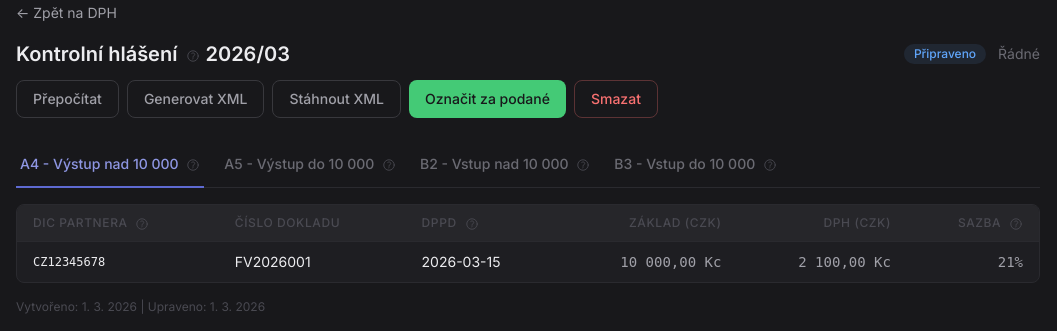
Test case: Control Statement Detail › switches to B2 tab showing input lines
expect the button "A4 - Výstup nad 10 000" is shown: met, box top-left (16, 142), bottom-right (204, 188)
Click the button "B2 - Vstup nad 10 000": (505, 165) top-left (416, 142), bottom-right (594, 188)
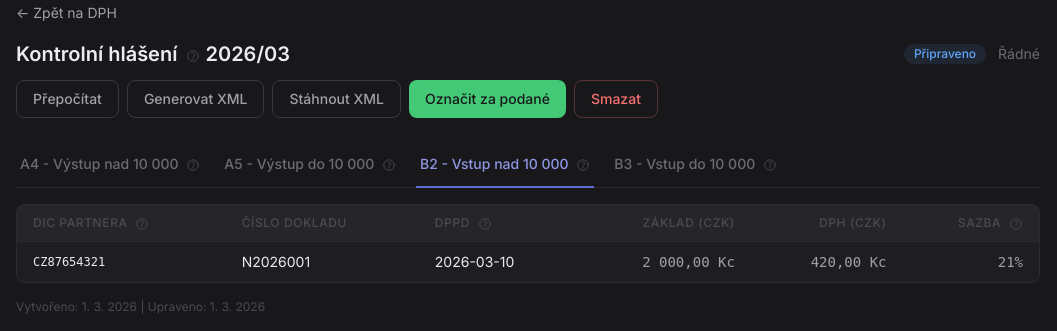
expect the text "CZ87654321" is shown: met, box top-left (17, 242), bottom-right (226, 282)
